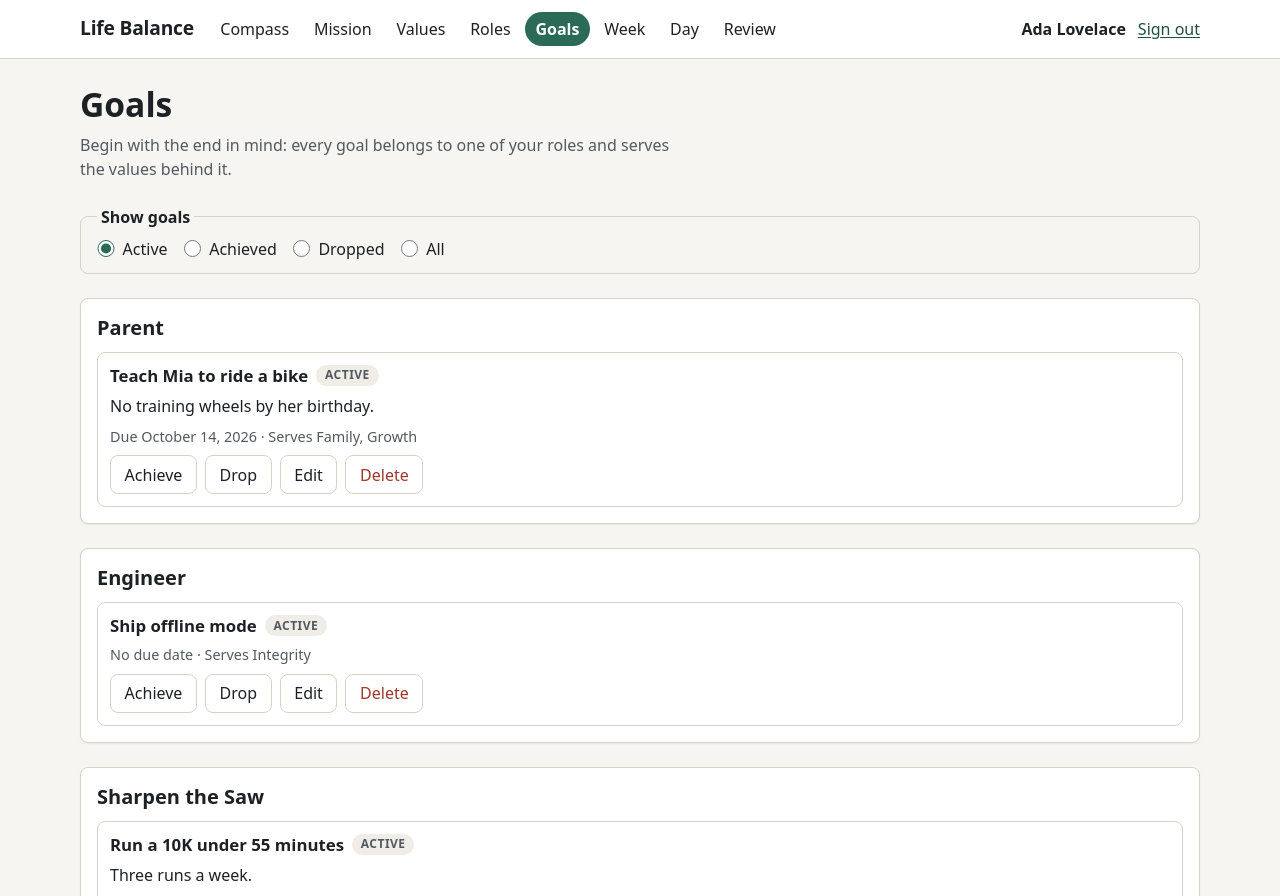
Scenario: shows why a status change was refused
Click the button named "Achieve Teach Mia to ride a bike" at point(154, 475), box top-left (110, 455), bottom-right (197, 494)
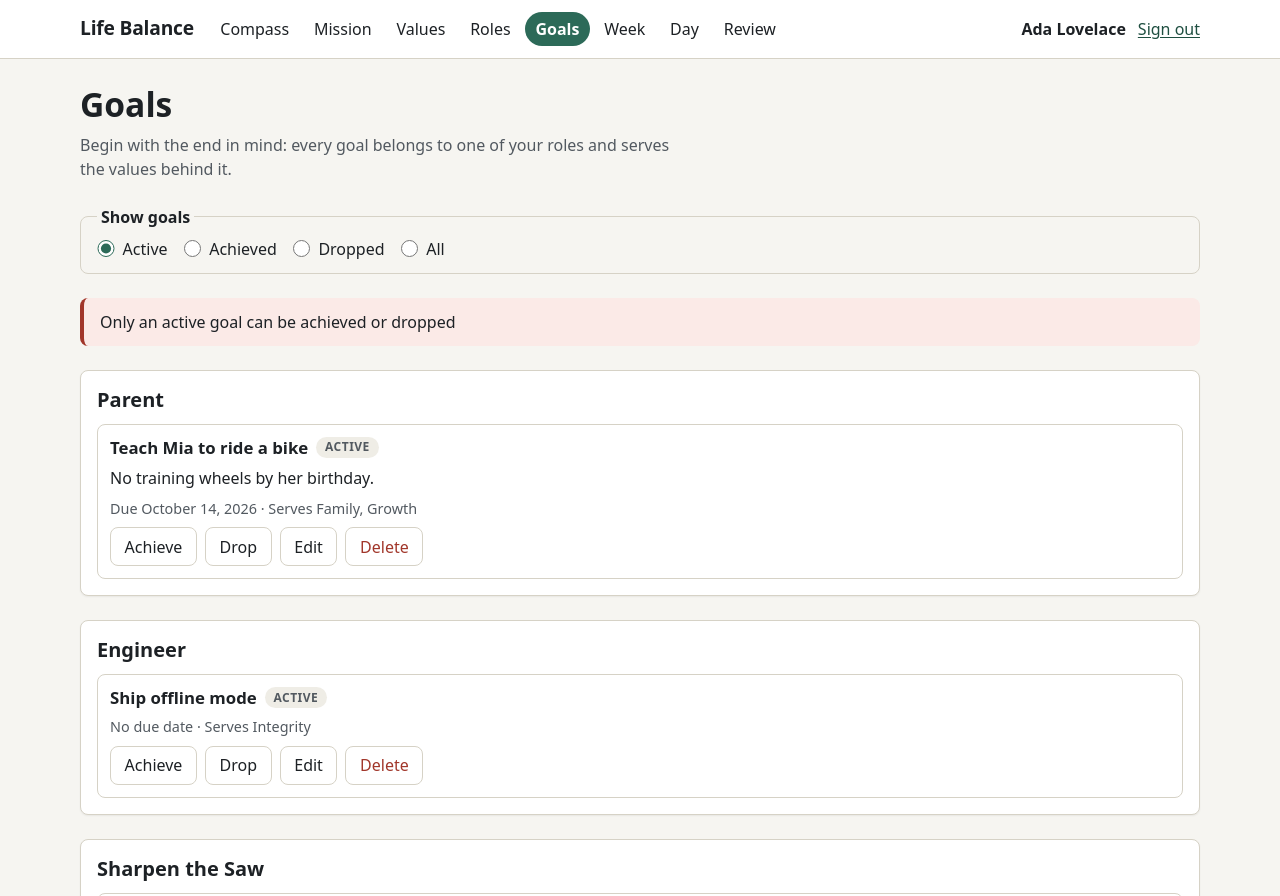
Check: the message reads "Only an active goal can be achieved or dropped", box top-left (100, 311), bottom-right (456, 333)
Click the button named "Delete Ship offline mode" at point(384, 765), box top-left (346, 746), bottom-right (423, 785)
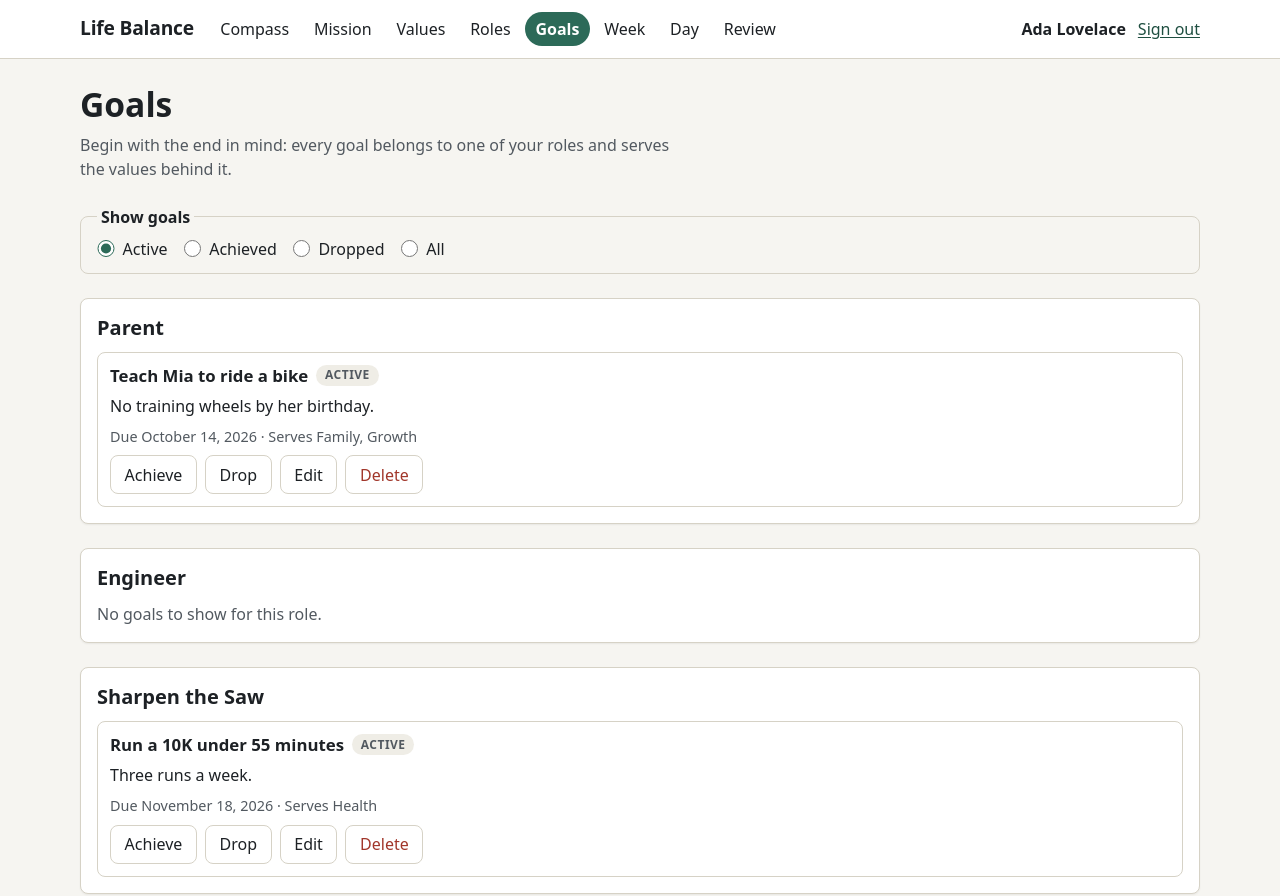
Check: the message "Only an active goal can be achieved or dropped" is gone
